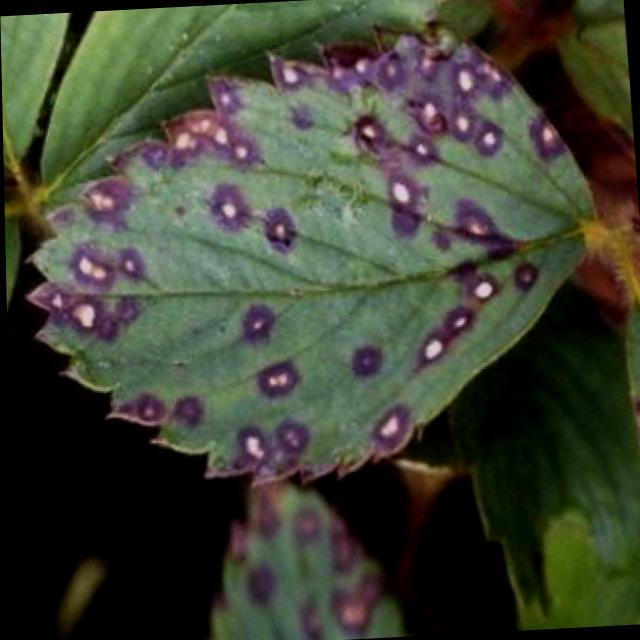Leaf Spot: (22, 21, 601, 490), (40, 0, 442, 208), (202, 478, 408, 640), (555, 0, 635, 164)
